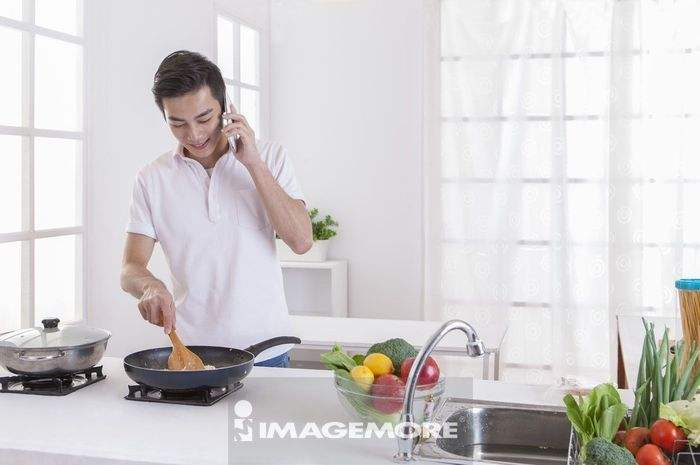phone: (220, 95, 239, 154)
talk: (162, 92, 254, 162)
